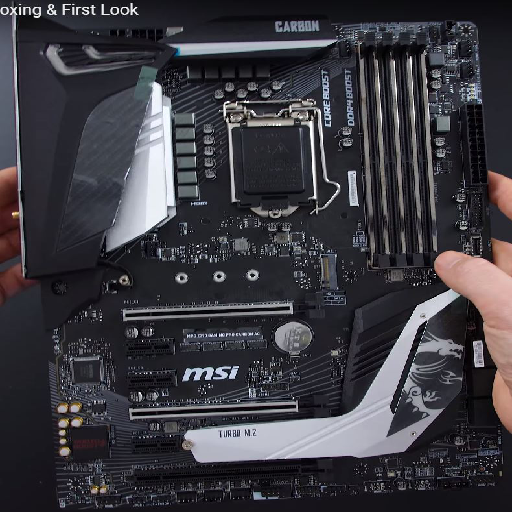CPU: (221, 100, 325, 219)
GPU: (119, 299, 324, 324), (128, 396, 328, 419)
MOTHERBOARD: (22, 21, 503, 496)
RAM: (347, 31, 440, 261)
SSD: (314, 251, 340, 289)
